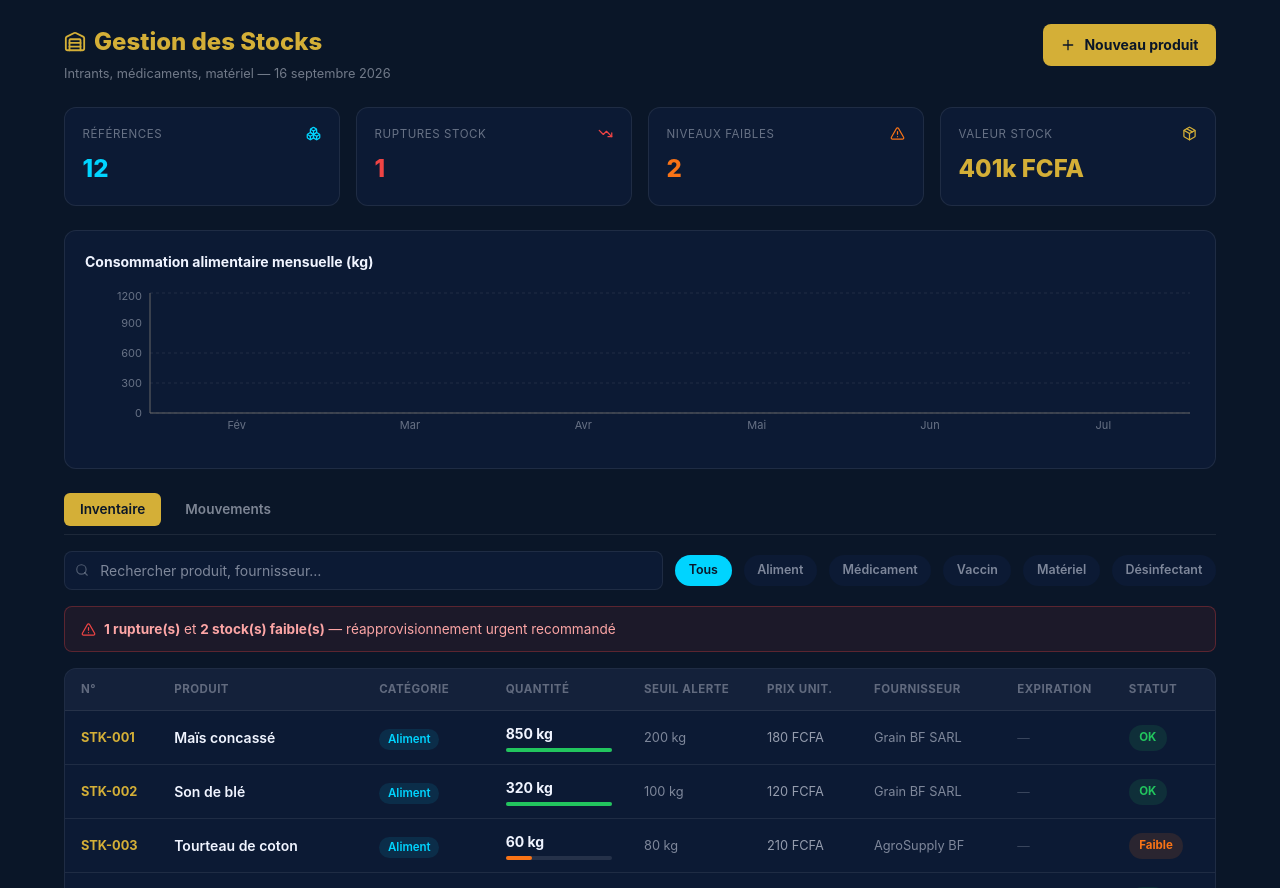
it: StocksPage › basculer sur Mouvements affiche les mouvements
Click the button "Mouvements" at point(228, 509), box x1=169 y1=493 x2=287 y2=526
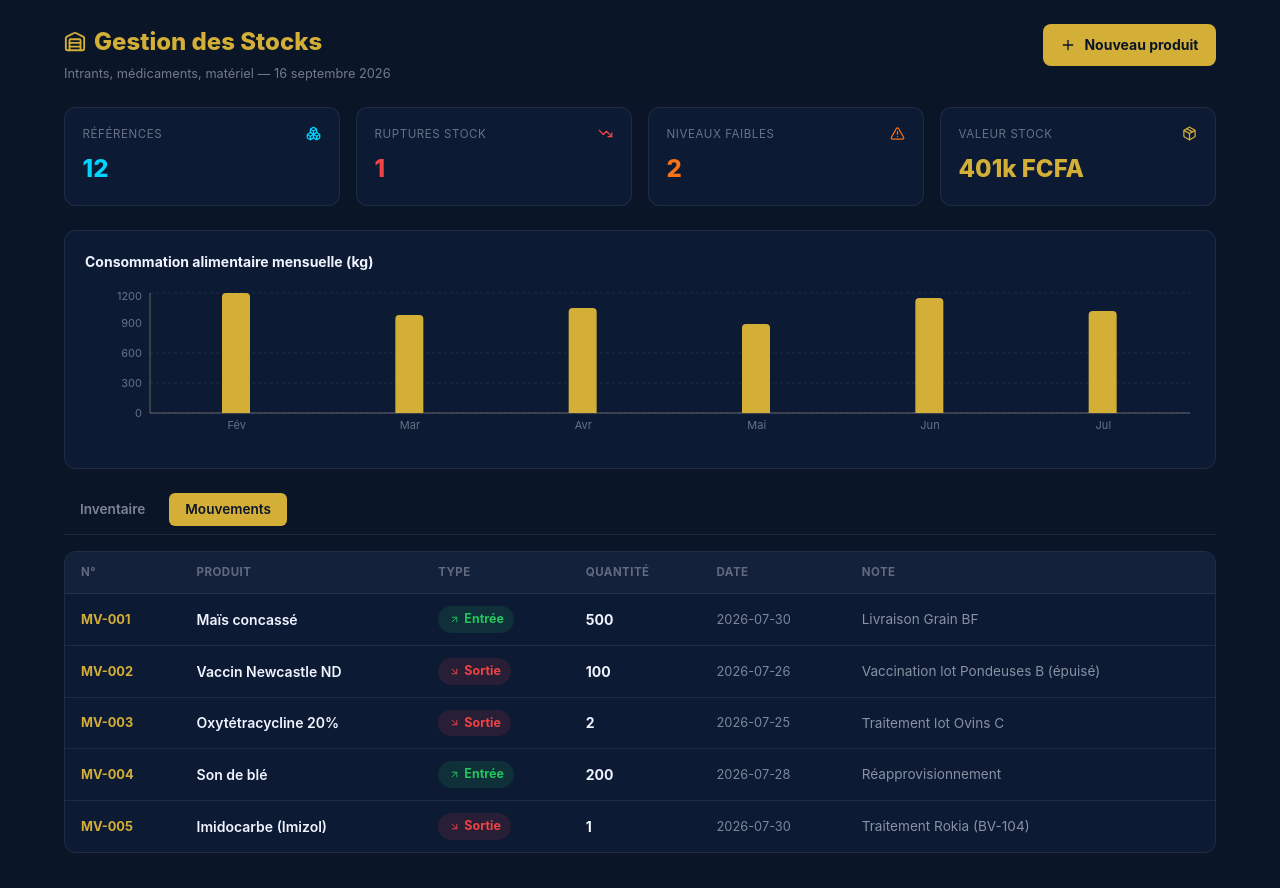
Now the text "MV-001" is shown, box x1=65 y1=594 x2=181 y2=645
